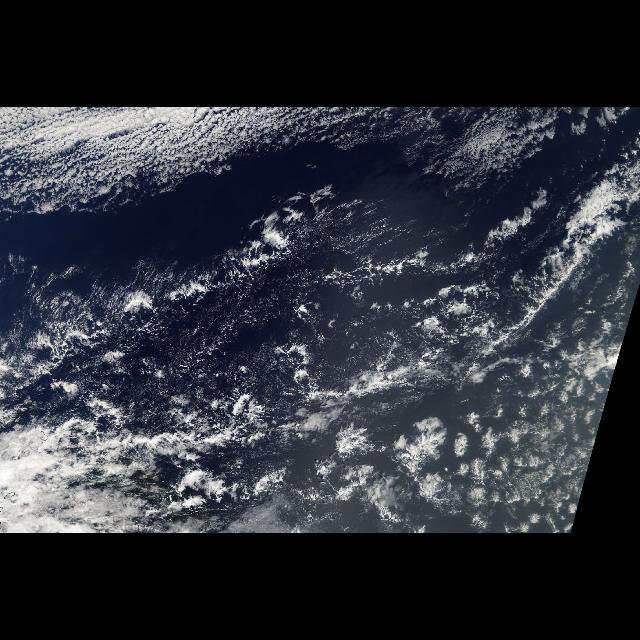Flower: (306, 308, 584, 534)
Gravel: (58, 252, 504, 436), (8, 112, 400, 200)
Sugar: (4, 108, 546, 198)
